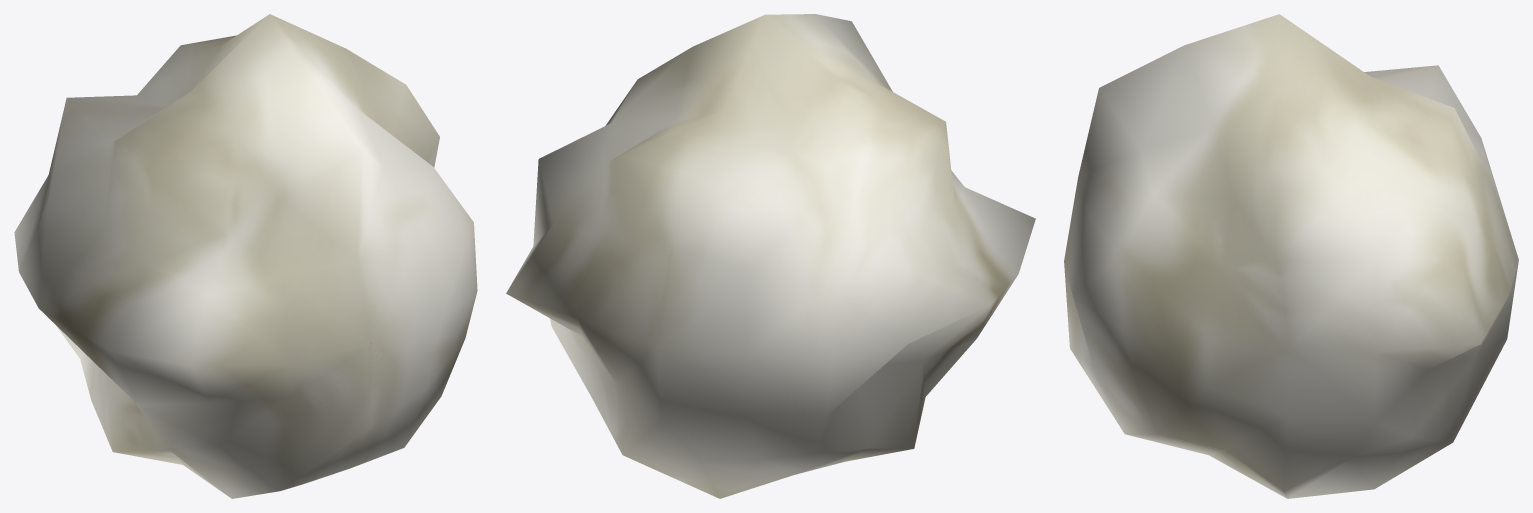
The model's file is Litter_1.fbx.
3 renders of one model, left to right at view 1: azimuth 30°, elevation 25°; view 2: azimuth 150°, elevation 25°; view 3: azimuth 270°, elevation 25°, orthographic. The views are drawn at different scales.
Parts seen in each view (by area): view 1: Litter_1; view 2: Litter_1; view 3: Litter_1.
Part boxes in pixels (x1=…): Litter_1: x1=14, y1=14, x2=477, y2=498; Litter_1: x1=506, y1=14, x2=1035, y2=498; Litter_1: x1=1064, y1=14, x2=1518, y2=498.
Bounding box in the file's own units: 16.42 × 17.19 × 15.43.
Materials: 1 (1 with a texture image).
